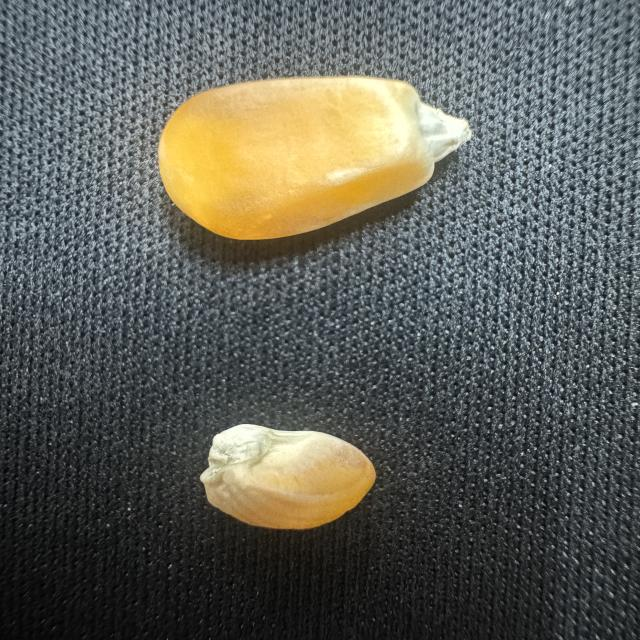Bad-Seed: (172, 408, 387, 541)
Good-Seed: (148, 63, 490, 260)
